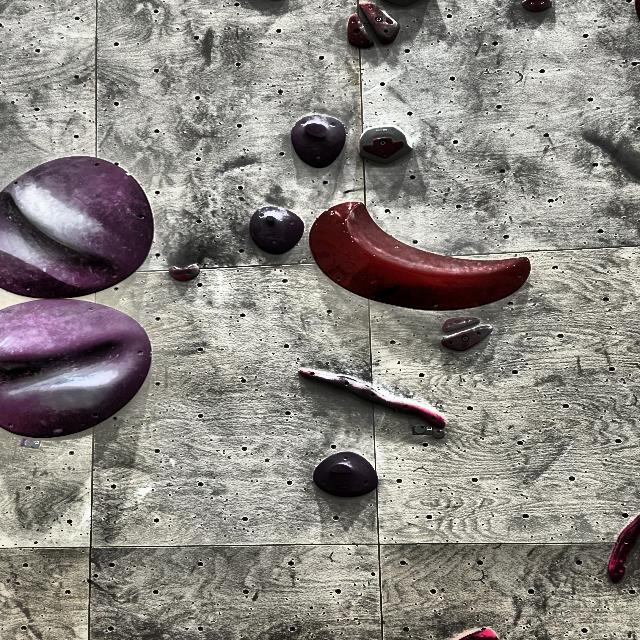Downclimb: (359, 125, 411, 164)
Hold: (299, 369, 446, 429), (291, 114, 346, 168), (313, 452, 378, 497), (250, 206, 303, 255), (608, 514, 640, 583), (359, 3, 399, 45), (441, 324, 491, 351), (347, 14, 374, 49), (442, 317, 480, 334), (169, 264, 200, 282), (522, 0, 551, 12)
Macro: (308, 202, 530, 311), (0, 157, 153, 298), (0, 299, 151, 438)
start_tag: (24, 439, 34, 447), (434, 430, 443, 438), (416, 426, 426, 433)
